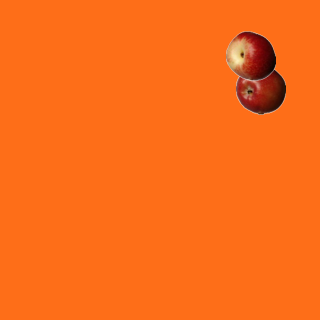Apple Braeburn: (235, 64, 285, 114)
Nectarine: (225, 30, 275, 80)
